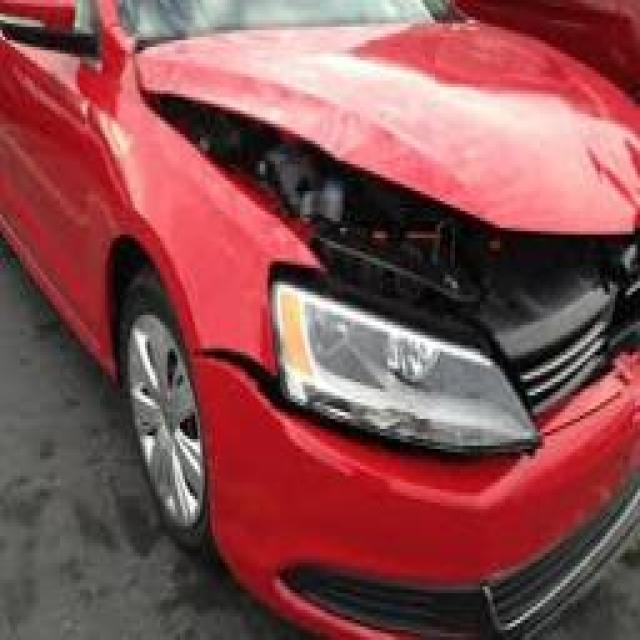rapairable: (203, 65, 631, 241), (192, 336, 301, 438)
